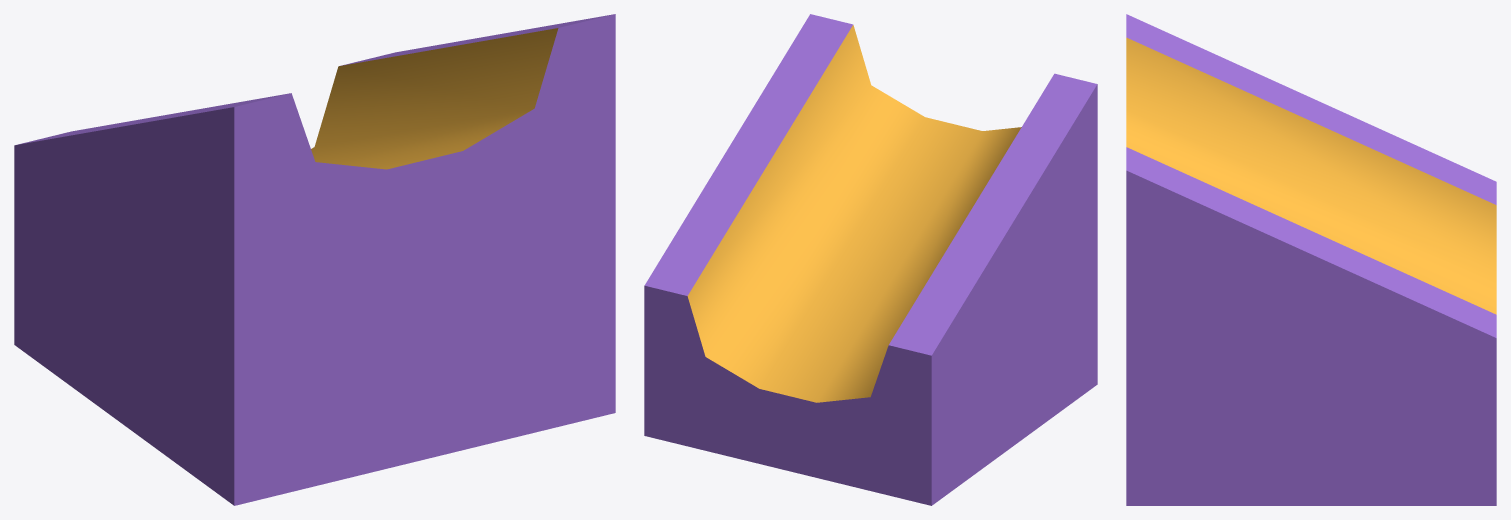
File: slant-solid-b.glb
The picture shows the model from 3 angles, left to right: view 1: azimuth 30°, elevation 25°; view 2: azimuth 150°, elevation 25°; view 3: azimuth 270°, elevation 25°; orthographic projection. The views are drawn at different scales.
Parts seen in each view (by area): view 1: slant-solid-b; view 2: slant-solid-b; view 3: slant-solid-b.
Boxes of the visible parts, x1,y1,x2,y2 form: slant-solid-b: [14, 14, 615, 505]; slant-solid-b: [644, 14, 1097, 505]; slant-solid-b: [1126, 14, 1496, 505].
Size of the model in its own units: 1 by 1 by 1.
1 material, 1 textured.
